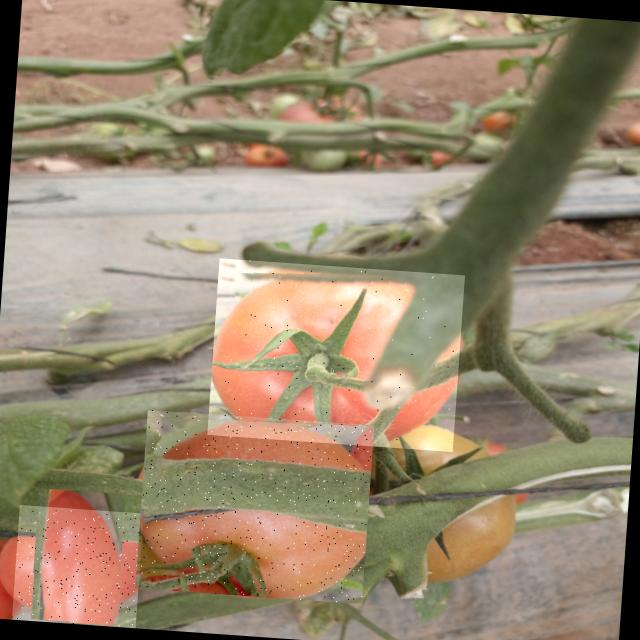Ripe Tomato: (206, 258, 464, 452), (135, 410, 374, 604), (11, 504, 143, 628)
